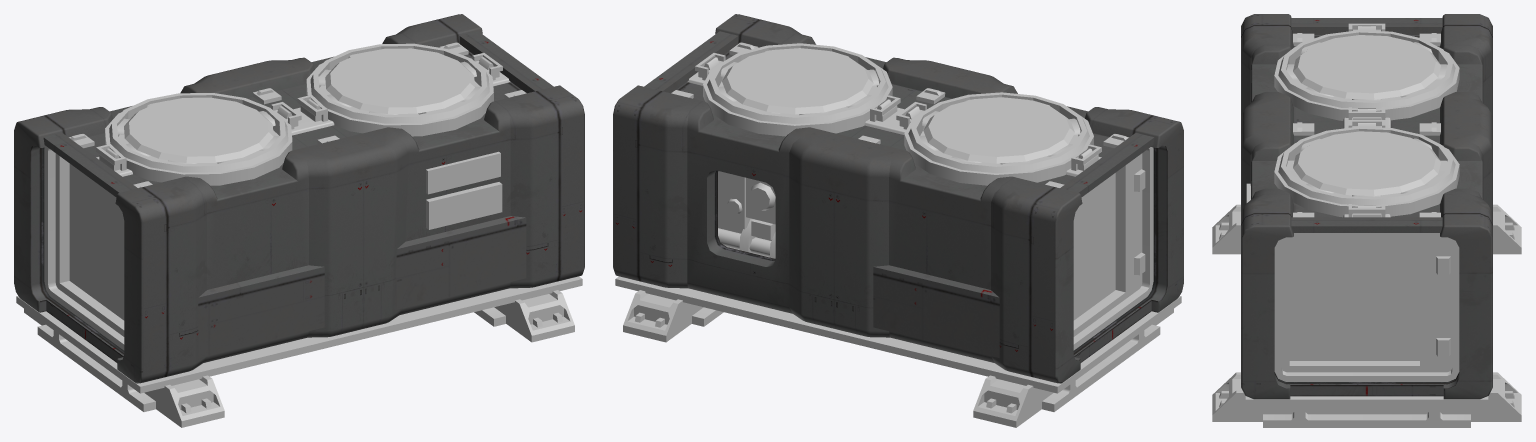
The model's file is Prop8_L1.fbx.
3 renders of one model, left to right at view 1: azimuth 30°, elevation 25°; view 2: azimuth 150°, elevation 25°; view 3: azimuth 270°, elevation 25°, orthographic.
Visible parts, largest first — view 1: pCube158; view 2: pCube158; view 3: pCube158.
Boxes of the visible parts, box(x1,y1,x2,y2) form: pCube158: box(14, 14, 584, 427); pCube158: box(613, 14, 1183, 427); pCube158: box(1212, 14, 1521, 427).
Bounding box in the file's own units: 253 × 119 × 155.
